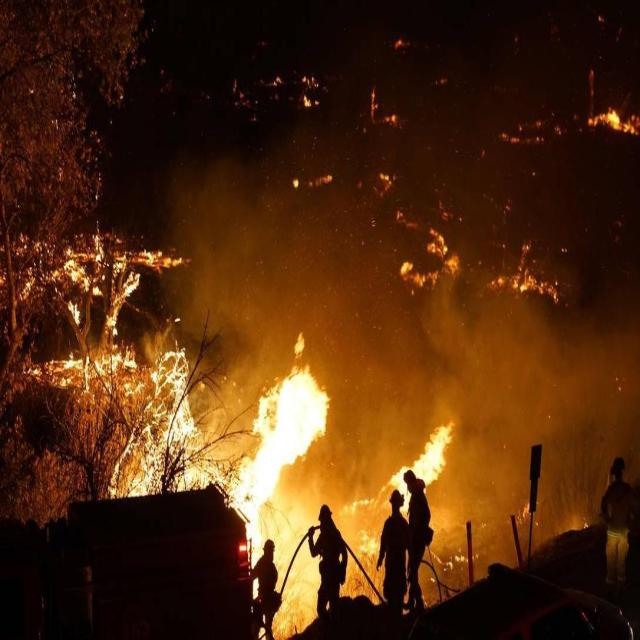Fire: (43, 232, 190, 498), (225, 340, 334, 528), (374, 412, 461, 516), (391, 219, 464, 296), (485, 242, 567, 306), (586, 99, 639, 145)
